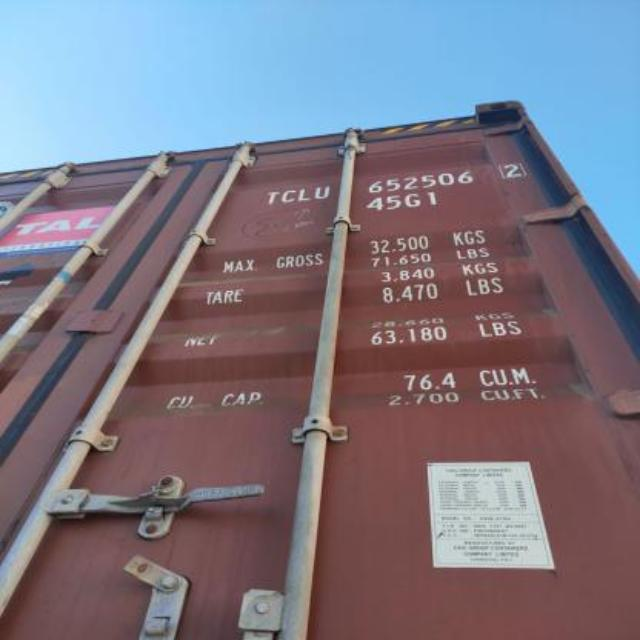0: (438, 168, 458, 190)
2: (491, 160, 532, 180), (398, 172, 419, 192)
5: (419, 170, 437, 193), (384, 172, 400, 192)
6: (454, 166, 474, 190), (363, 172, 383, 194)
C: (279, 184, 299, 206)
L: (299, 180, 311, 206)
T: (263, 184, 281, 208)
U: (310, 179, 334, 205)
